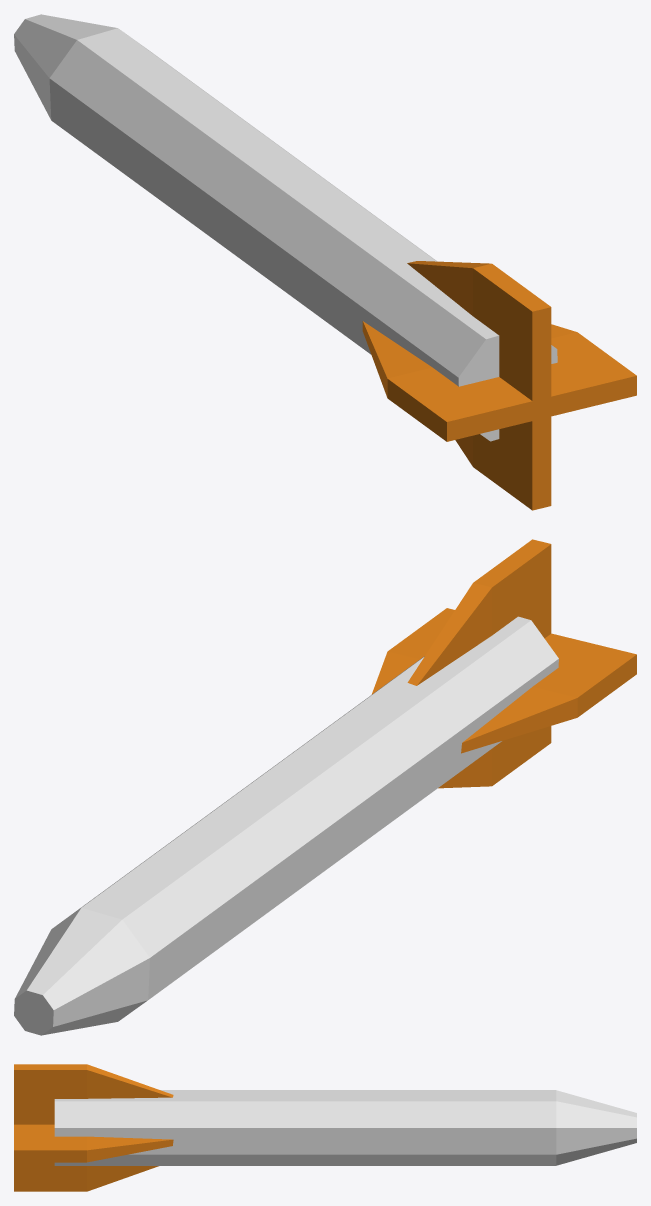
File: Missile.fbx
3 views of the same model, one above another, from view 1: azimuth 30°, elevation 25°; view 2: azimuth 150°, elevation 25°; view 3: azimuth 270°, elevation 25° (orthographic). The views are drawn at different scales.
Parts seen in each view (by area): view 1: Missile; view 2: Missile; view 3: Missile.
Part boxes in pixels (x1=…): Missile: x1=14, y1=14, x2=636, y2=510; Missile: x1=14, y1=539, x2=636, y2=1035; Missile: x1=14, y1=1064, x2=636, y2=1191.
Size of the model in its own units: 204 by 204 by 944.
